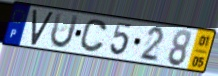2: (138, 26, 166, 64)
5: (107, 22, 135, 57)
8: (167, 28, 193, 68)
C: (78, 18, 109, 54)
U: (48, 12, 81, 50)
V: (30, 9, 56, 47)
